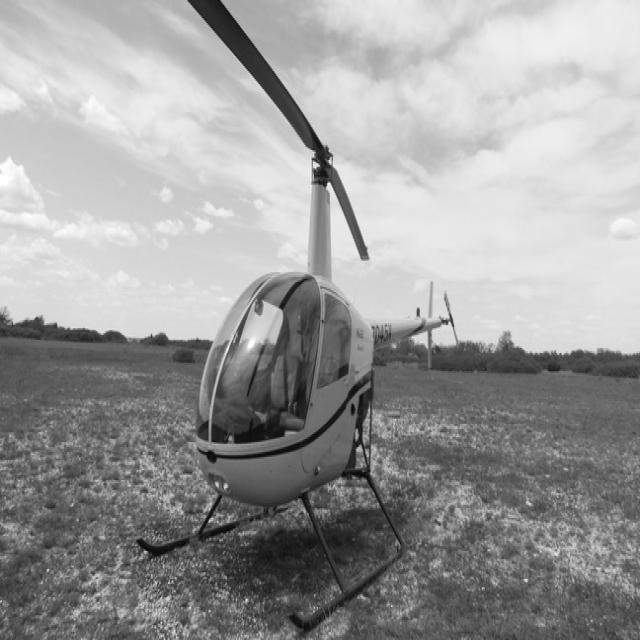helicopter: (150, 1, 461, 631)
